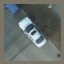car: (17, 16, 46, 48)
